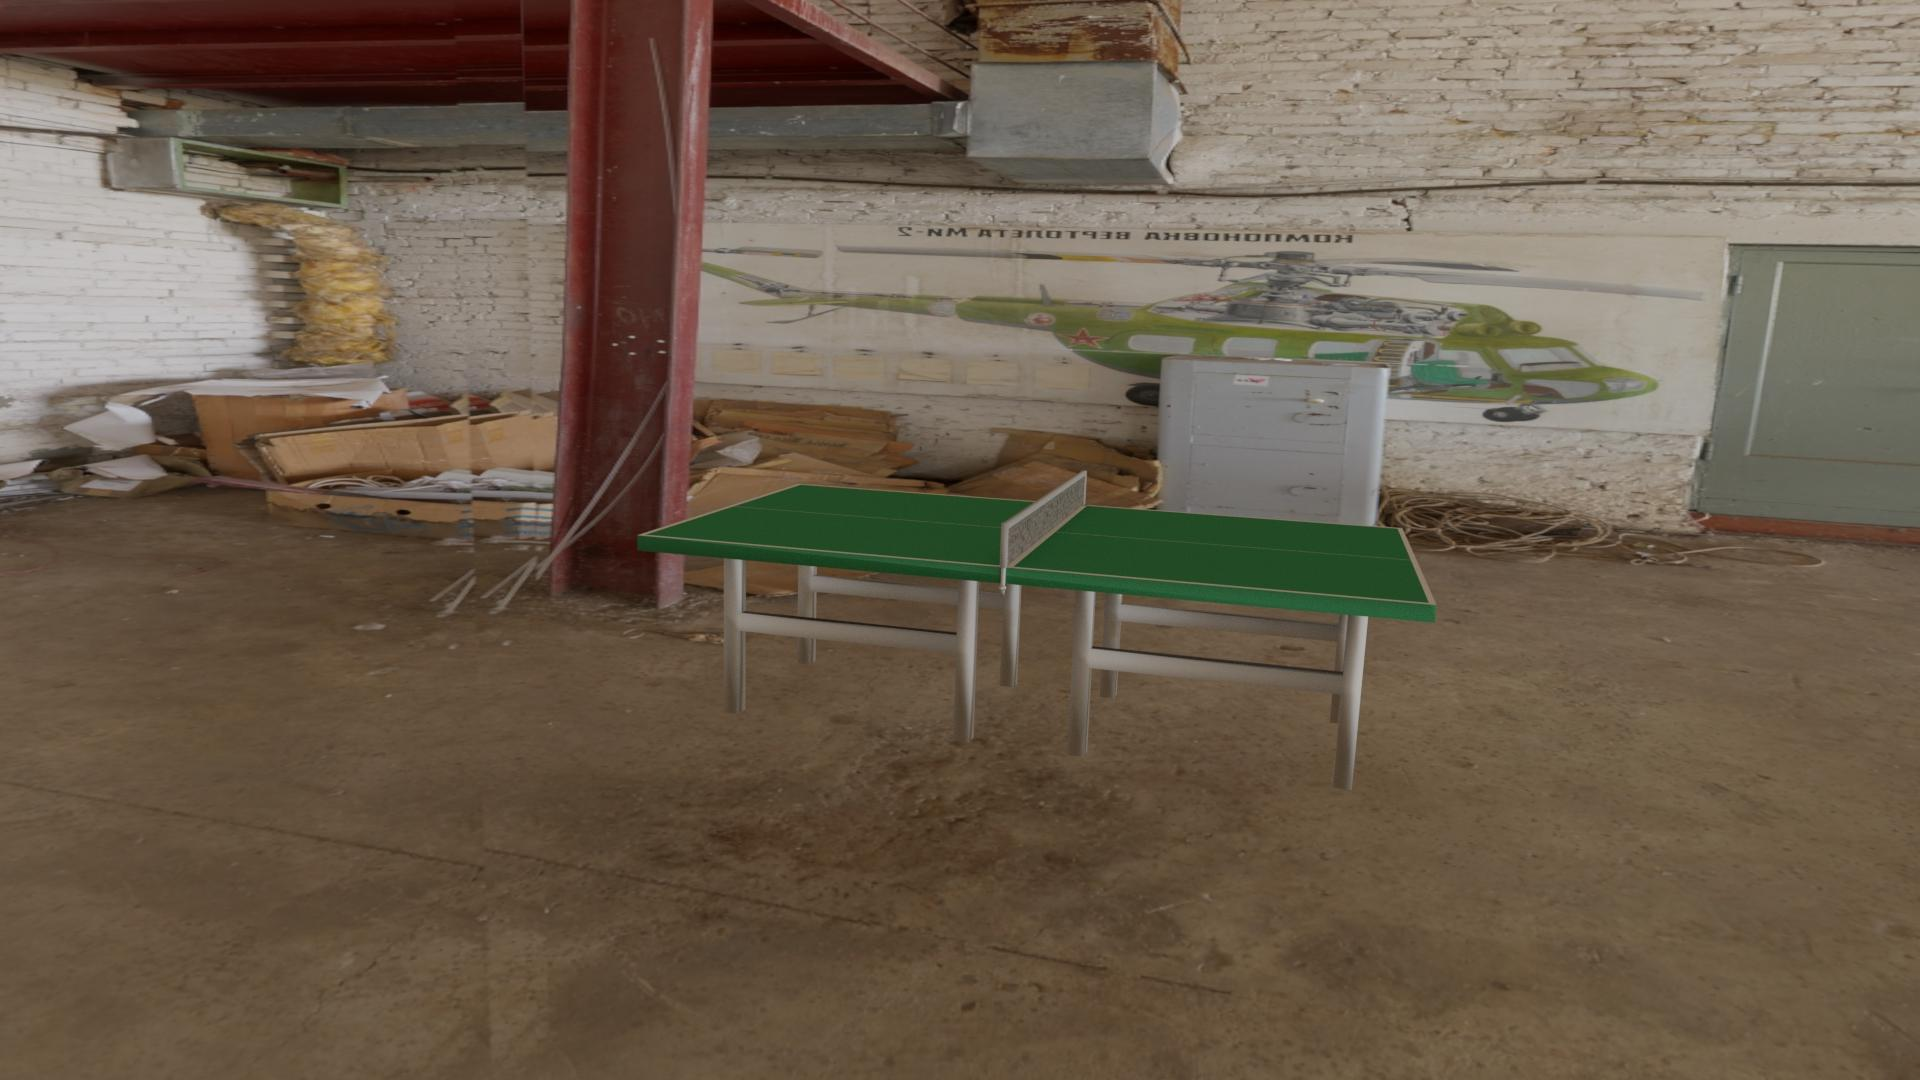table: (645, 485, 1429, 603)
